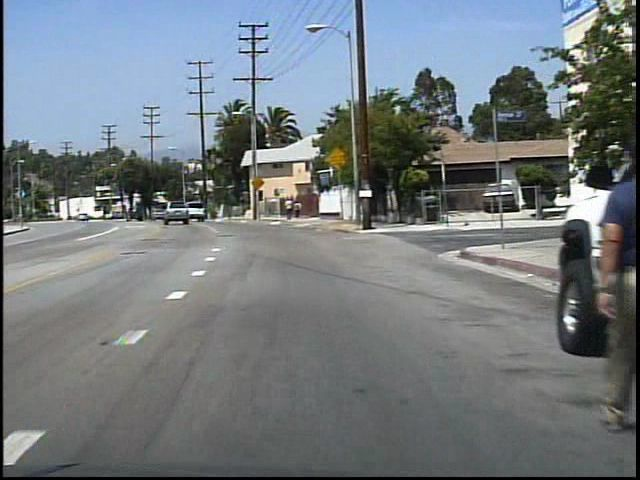person: (572, 133, 629, 426), (283, 197, 294, 222), (293, 199, 303, 221)
